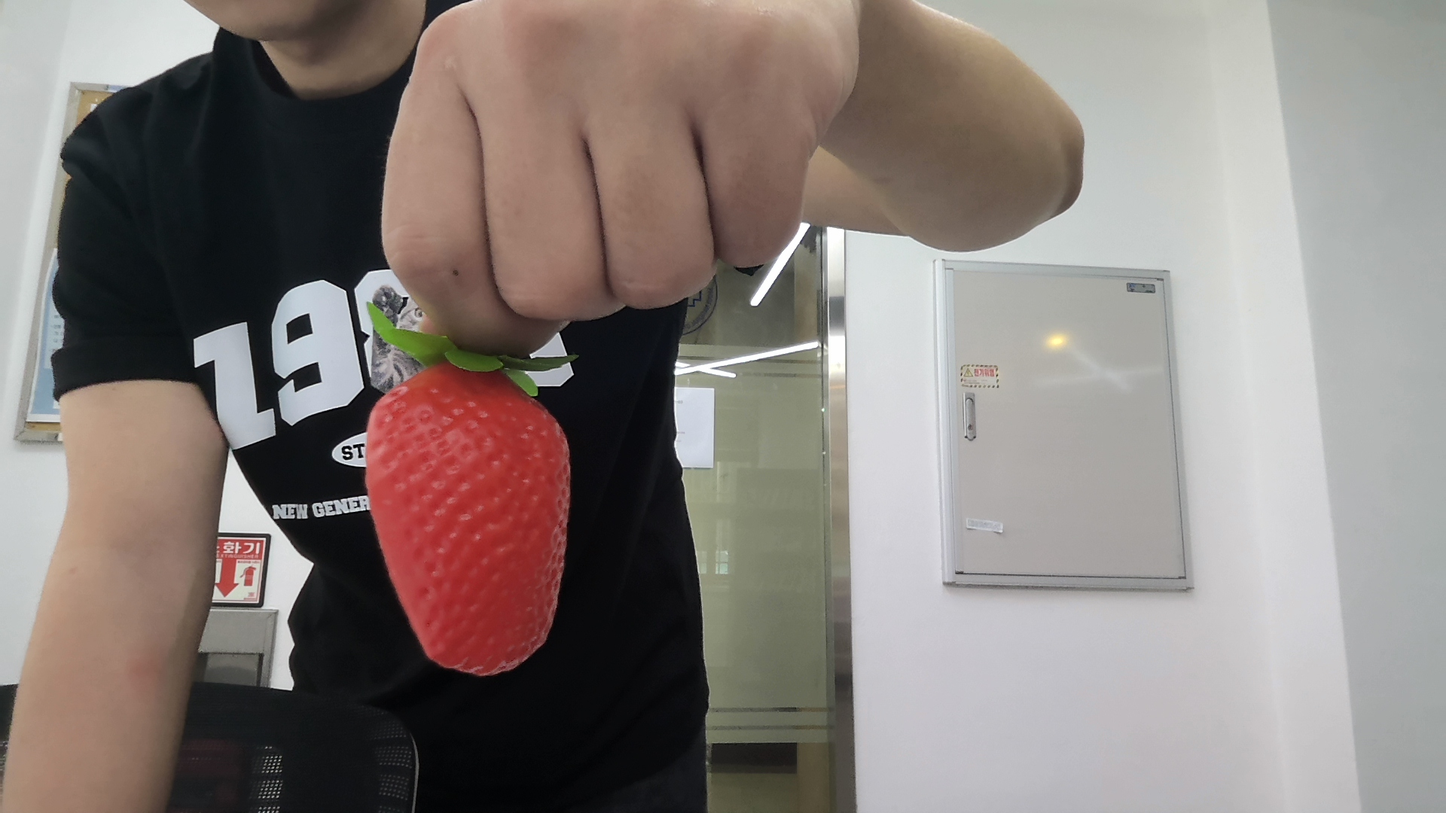strawberry: (333, 345, 599, 678)
